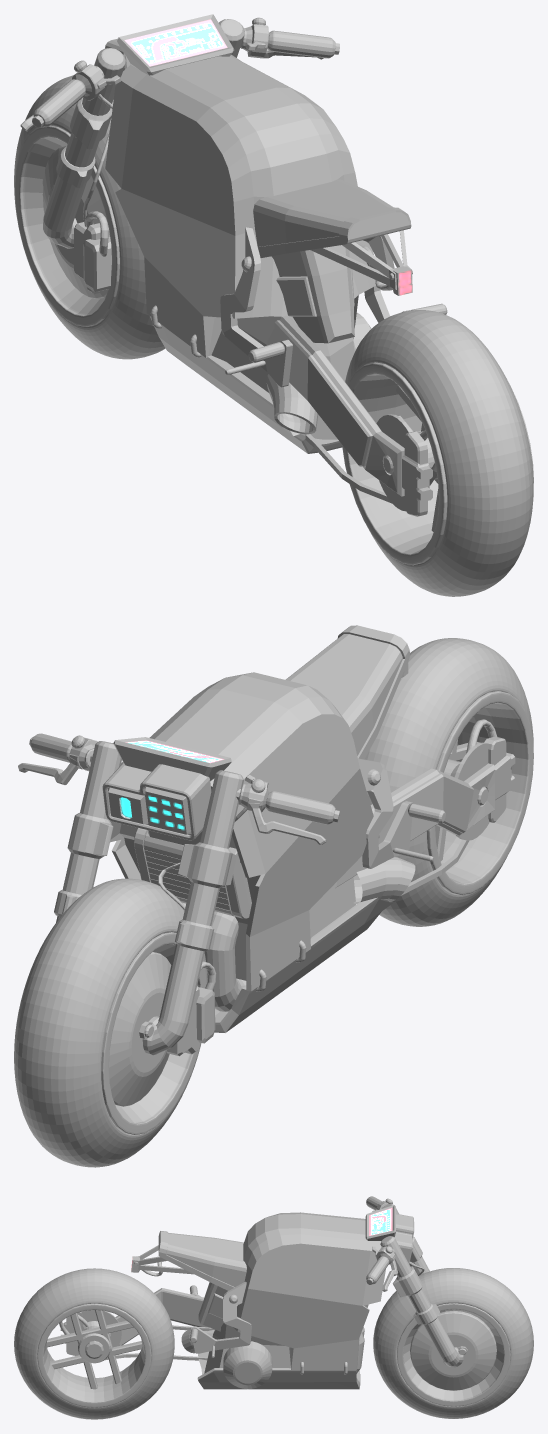
File: bike.fbx
3 views of the same model, one above another, from view 1: azimuth 30°, elevation 25°; view 2: azimuth 150°, elevation 25°; view 3: azimuth 270°, elevation 25° (orthographic). The views are drawn at different scales.
Parts seen in each view (by area): view 1: body, back_wheel, front_wheel, front_bike; view 2: body, front_wheel, back_wheel, front_bike; view 3: body, back_wheel, front_wheel, front_bike.
Part boxes in pixels (x1=…): body: x1=105, y1=54, x2=412, y2=453; back_wheel: x1=220, y1=227, x2=533, y2=596; front_wheel: x1=14, y1=75, x2=165, y2=359; front_bike: x1=20, y1=14, x2=339, y2=248; body: x1=109, y1=625, x2=415, y2=1032; front_wheel: x1=14, y1=808, x2=246, y2=1167; back_wheel: x1=336, y1=638, x2=533, y2=926; front_bike: x1=18, y1=733, x2=339, y2=1055; body: x1=131, y1=1212, x2=385, y2=1389; back_wheel: x1=14, y1=1268, x2=251, y2=1419; front_wheel: x1=373, y1=1261, x2=533, y2=1418; front_bike: x1=365, y1=1196, x2=467, y2=1367.
Bounding box in the file's own units: 4.52 × 5.08 × 12.02.
